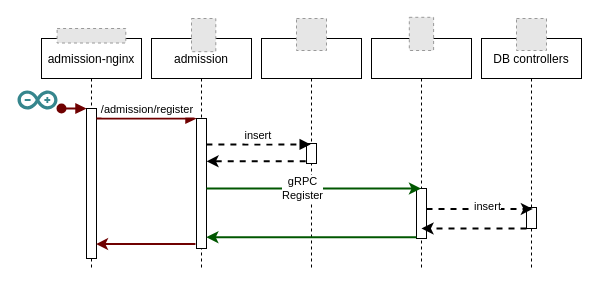
Image size: 599x287. Some labels were removed from this diagram. Grey dashed boxes stand in for pictures. Here are the shapes that lost their labels. From the top down, the centre of each, then its label:
At pixel 311 153: "DB api-server".
At pixel 421 153: "api-devices".
